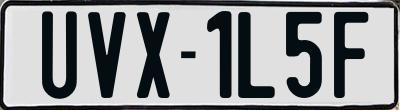1: (204, 8, 234, 101)
5: (286, 11, 323, 103)
F: (333, 10, 373, 100)
L: (236, 11, 276, 101)
U: (39, 11, 80, 103)
V: (87, 11, 130, 98)
X: (137, 10, 176, 102)
